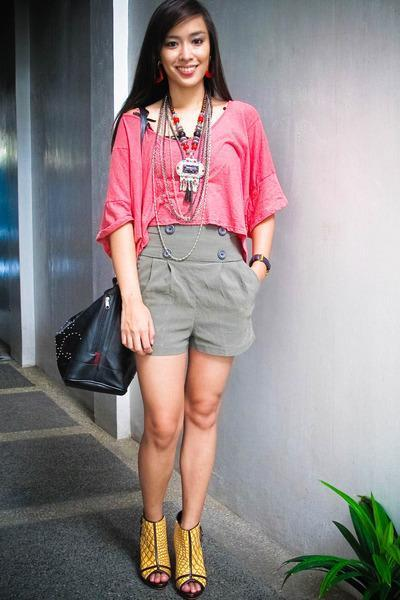bag: (55, 297, 140, 394)
jacket: (236, 237, 269, 272)
shirt: (96, 101, 287, 266)
shoe: (132, 526, 206, 599)
shorts: (136, 225, 257, 371)
